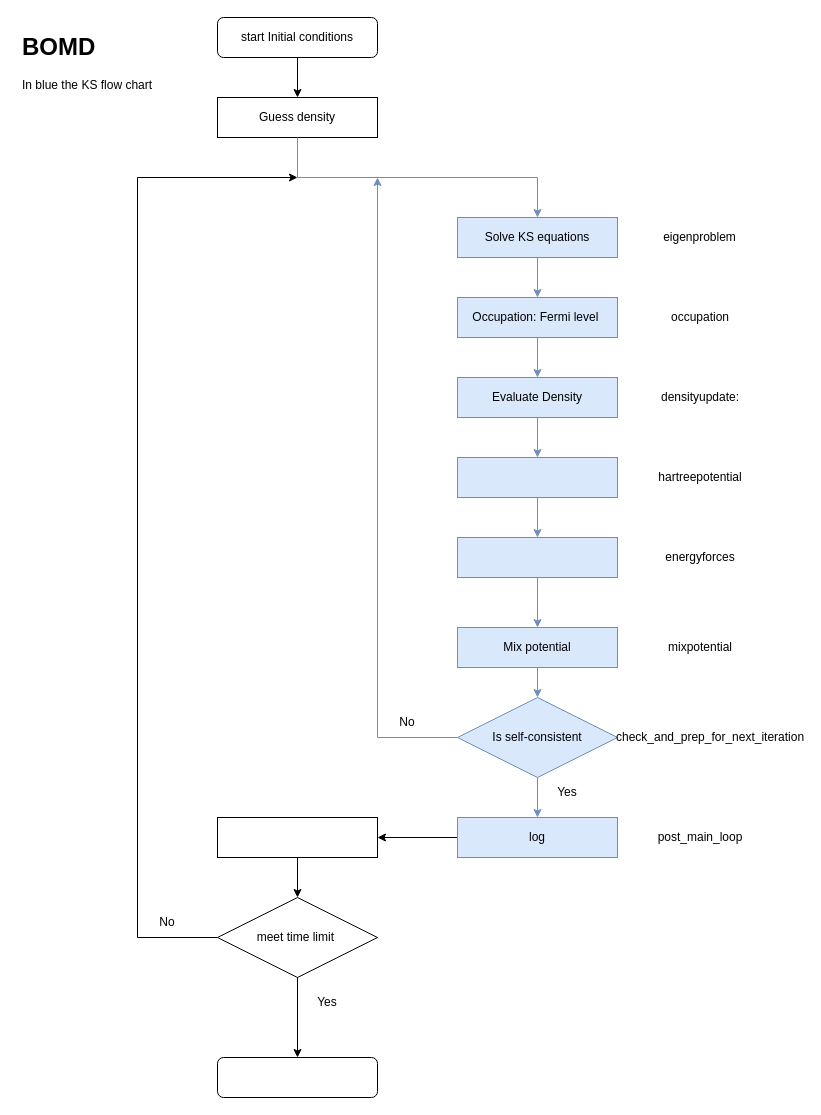
The diagram is 821 pixels wide and 1115 high, and some of its shapes have lost their labels. Here are the shapes that lost their labels. From the top down, the box of each, then its label:
(456, 456, 618, 498): Calculate effective potential
(456, 536, 618, 578): get forces on ions & energy
(216, 816, 378, 858): update ions positions and time
(216, 1056, 378, 1098): Output data
